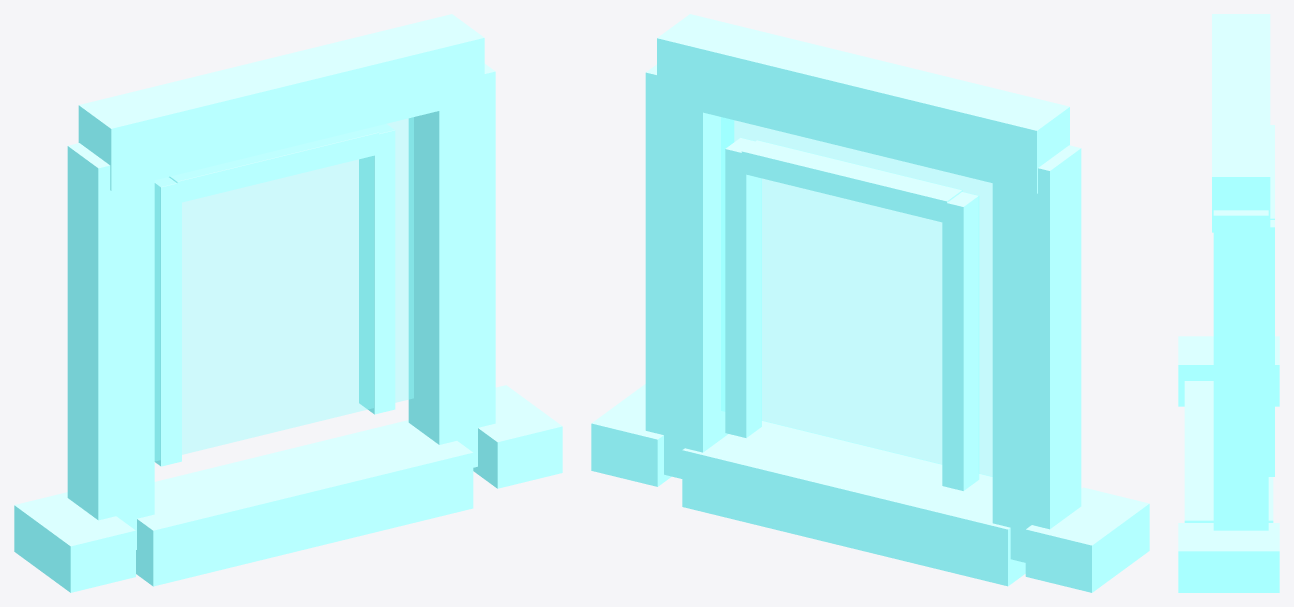
The model's file is exit-portal.glb.
The picture shows the model from 3 angles, left to right: view 1: azimuth 30°, elevation 25°; view 2: azimuth 150°, elevation 25°; view 3: azimuth 270°, elevation 25°; orthographic projection. The views are drawn at different scales.
Parts seen in each view (by area): view 1: exit-portal-frame, exit-portal-field; view 2: exit-portal-frame, exit-portal-field; view 3: exit-portal-frame.
Boxes of the visible parts, bbox=[...] form: exit-portal-frame: bbox=[14, 14, 562, 592]; exit-portal-field: bbox=[155, 117, 413, 460]; exit-portal-frame: bbox=[591, 14, 1149, 592]; exit-portal-field: bbox=[721, 117, 992, 476]; exit-portal-frame: bbox=[1178, 14, 1279, 592].
Bounding box in the file's own units: 3.32 × 2.92 × 0.66.
